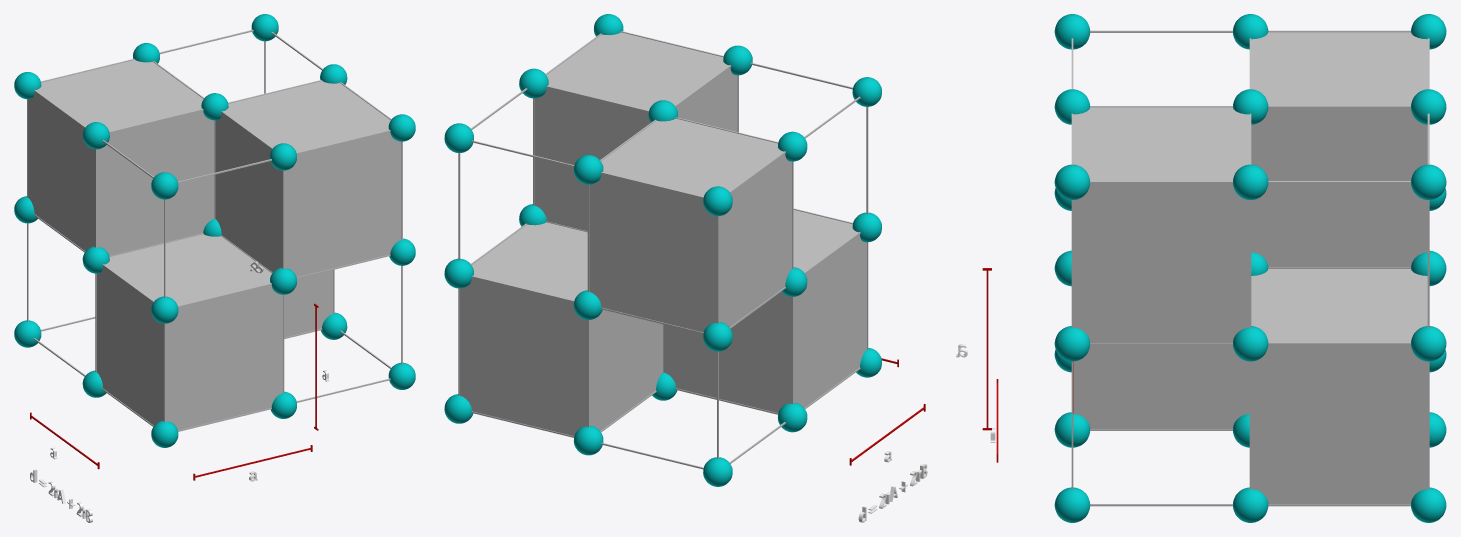
File: antifluoritavolume_centrado_celda.glb
The picture shows the model from 3 angles, left to right: view 1: azimuth 30°, elevation 25°; view 2: azimuth 150°, elevation 25°; view 3: azimuth 270°, elevation 25°; orthographic projection. The views are drawn at different scales.
Visible parts, largest first — view 1: pasted__typeMesh10; view 2: pasted__typeMesh10; view 3: pasted__typeMesh10.
Part boxes in pixels (left/top/right/bottom): pasted__typeMesh10: left=14, top=14, right=415, bottom=522; pasted__typeMesh10: left=444, top=14, right=927, bottom=522; pasted__typeMesh10: left=956, top=14, right=1446, bottom=522.
Bounding box in the file's own units: 2.66 × 2.75 × 2.75.
